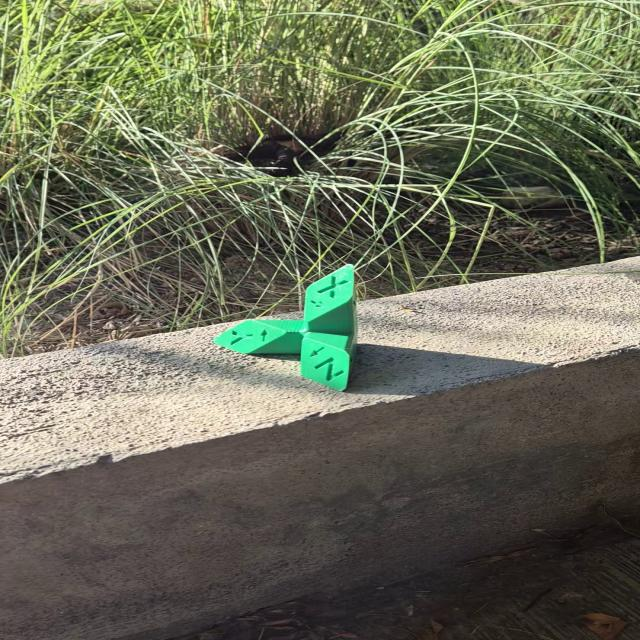objects: (210, 262, 362, 393)
